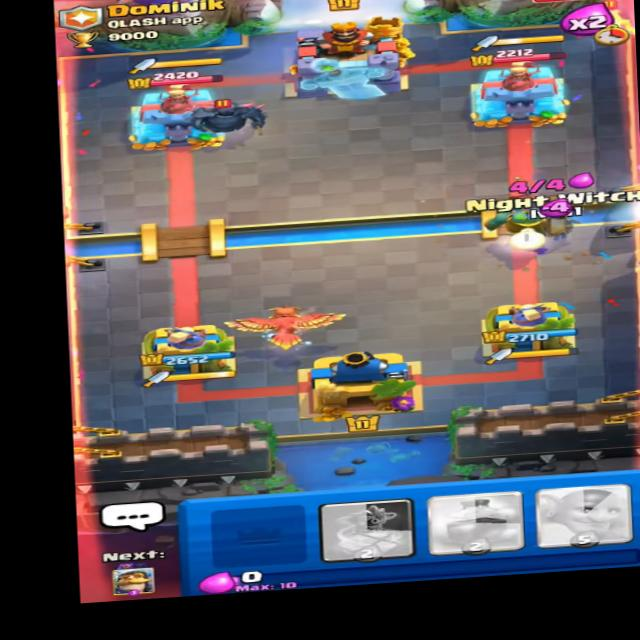Pekka: (185, 83, 275, 137)
